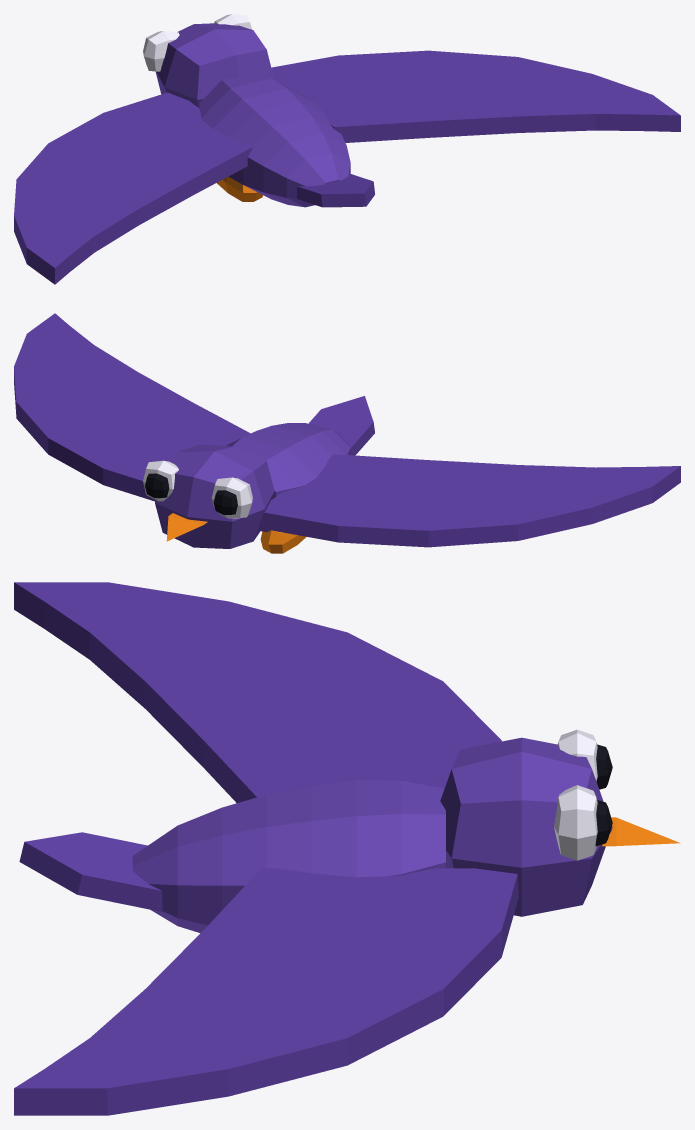
The model's file is crow.glb.
3 views of the same model, one above another, from view 1: azimuth 30°, elevation 25°; view 2: azimuth 150°, elevation 25°; view 3: azimuth 270°, elevation 25° (orthographic). The views are drawn at different scales.
Visible parts, largest first — view 1: wingRight, wingLeft, crowBody; view 2: wingLeft, wingRight, crowBody; view 3: wingRight, crowBody, wingLeft.
Part boxes in pixels (x1,y1,x2,y2): wingRight: [271, 50, 680, 142]; wingLeft: [14, 92, 252, 284]; crowBody: [143, 14, 374, 207]; wingLeft: [258, 454, 680, 547]; wingRight: [14, 313, 250, 501]; crowBody: [143, 396, 374, 553]; wingRight: [14, 868, 518, 1115]; crowBody: [19, 729, 680, 933]; wingLeft: [14, 582, 501, 802].
Bounding box in the file's own units: 0.948 × 0.178 × 0.528.
